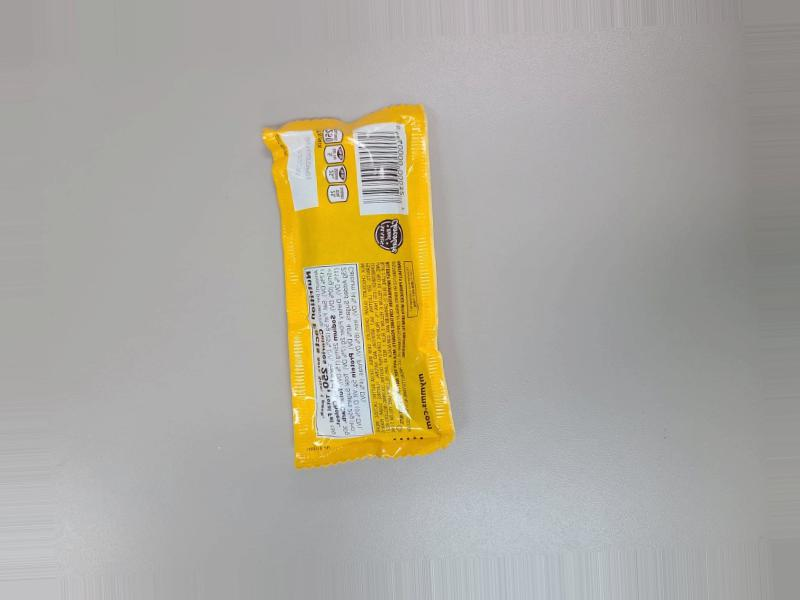m&m: (255, 88, 473, 482)
